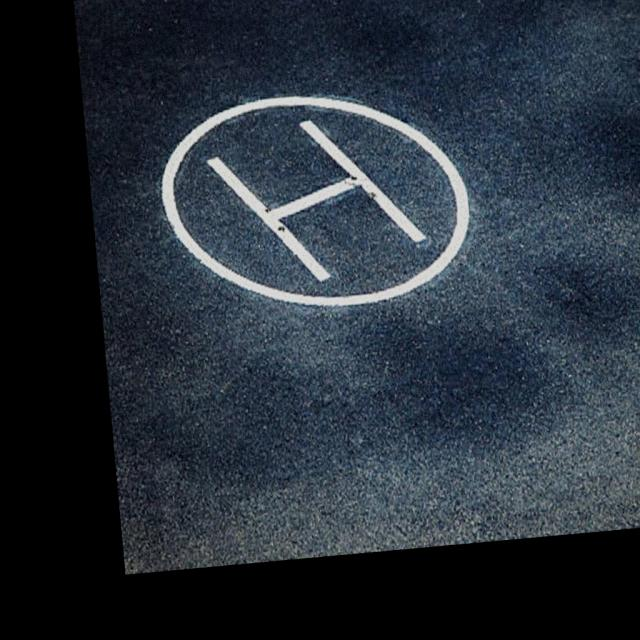helipad: (158, 90, 474, 311)
